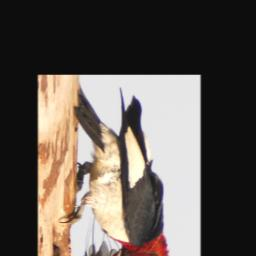Woodpecker: (60, 85, 169, 256)
